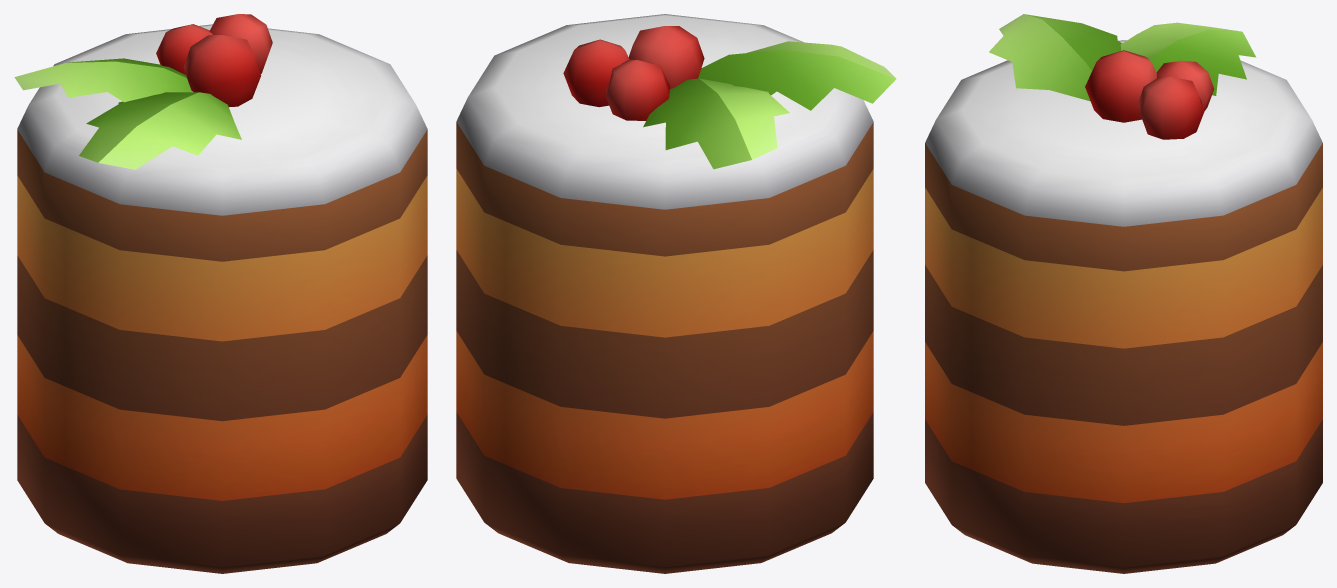
The model's file is m_MiniCake06.fbx.
3 renders of one model, left to right at view 1: azimuth 30°, elevation 25°; view 2: azimuth 150°, elevation 25°; view 3: azimuth 270°, elevation 25°, orthographic. The views are drawn at different scales.
Visible parts, largest first — view 1: m_MiniCake06; view 2: m_MiniCake06; view 3: m_MiniCake06.
Part boxes in pixels (box(x1,y1,x2,y2)): m_MiniCake06: box(14, 14, 427, 573); m_MiniCake06: box(456, 14, 896, 573); m_MiniCake06: box(925, 14, 1322, 573).
Size of the model in its own units: 11.34 by 13.99 by 11.34.
